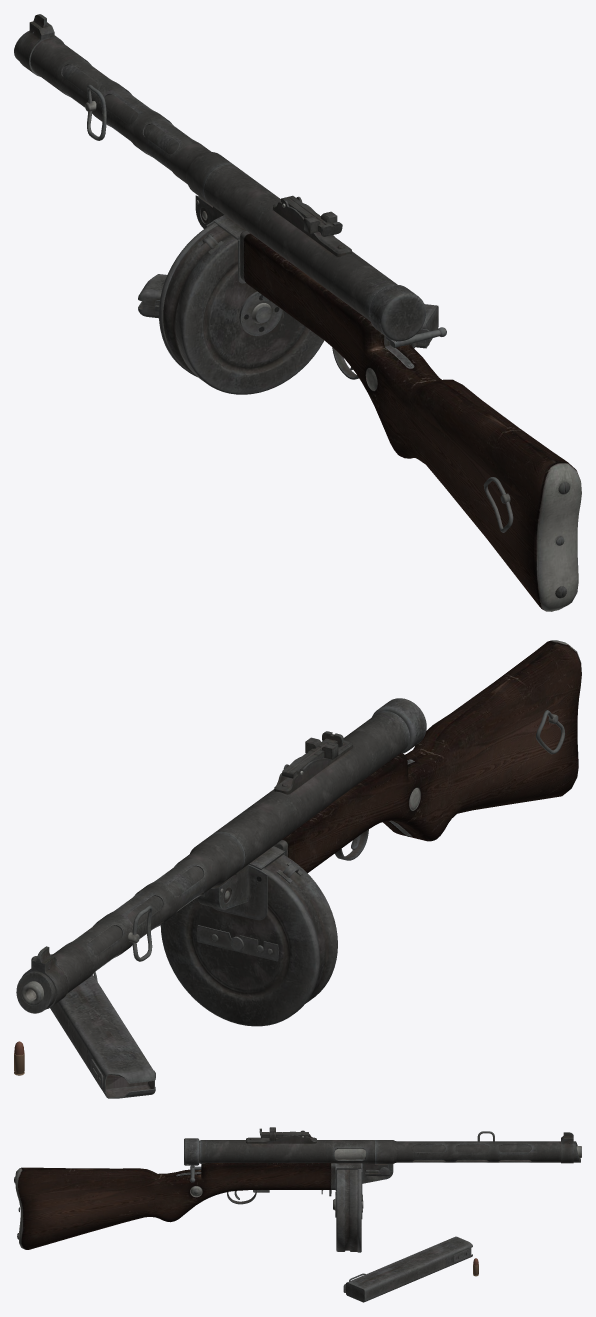
The picture shows the model from 3 angles, top to bottom: view 1: azimuth 30°, elevation 25°; view 2: azimuth 150°, elevation 25°; view 3: azimuth 270°, elevation 25°; orthographic projection. The views are drawn at different scales.
Parts seen in each view (by area): view 1: SuomiKP31_Body, SuomiKP31_Drum, SuomiKP31_Cover, SuomiKP31_Cap, SuomiKP31_Barrel, SuomiKP31_Magazine; view 2: SuomiKP31_Body, SuomiKP31_Drum, SuomiKP31_Cover, SuomiKP31_Magazine, SuomiKP31_Barrel, SuomiKP31_Cap, SuomiKP31_Sight; view 3: SuomiKP31_Body, SuomiKP31_Cover, SuomiKP31_Magazine, SuomiKP31_Drum, SuomiKP31_Barrel, SuomiKP31_Cap, SuomiKP31_Bolt.
Boxes of the visible parts, bbox=[...] form: SuomiKP31_Body: bbox=[195, 164, 581, 611]; SuomiKP31_Drum: bbox=[159, 215, 324, 394]; SuomiKP31_Cover: bbox=[14, 14, 236, 202]; SuomiKP31_Cap: bbox=[369, 284, 425, 341]; SuomiKP31_Barrel: bbox=[62, 64, 178, 154]; SuomiKP31_Magazine: bbox=[138, 274, 438, 348]; SuomiKP31_Body: bbox=[197, 640, 581, 909]; SuomiKP31_Drum: bbox=[160, 846, 337, 1026]; SuomiKP31_Cover: bbox=[16, 831, 245, 1013]; SuomiKP31_Magazine: bbox=[31, 954, 155, 1098]; SuomiKP31_Barrel: bbox=[21, 866, 203, 1005]; SuomiKP31_Cap: bbox=[372, 698, 426, 753]; SuomiKP31_Sight: bbox=[282, 731, 343, 778]; SuomiKP31_Body: bbox=[14, 1130, 393, 1249]; SuomiKP31_Cover: bbox=[375, 1131, 580, 1171]; SuomiKP31_Magazine: bbox=[343, 1236, 472, 1302]; SuomiKP31_Drum: bbox=[333, 1163, 363, 1252]; SuomiKP31_Barrel: bbox=[412, 1145, 581, 1157]; SuomiKP31_Cap: bbox=[184, 1138, 199, 1165]; SuomiKP31_Bolt: bbox=[334, 1148, 365, 1158].
Bounding box in the file's own units: 28.11 × 21.63 × 92.33.
2 materials, 2 textured.
